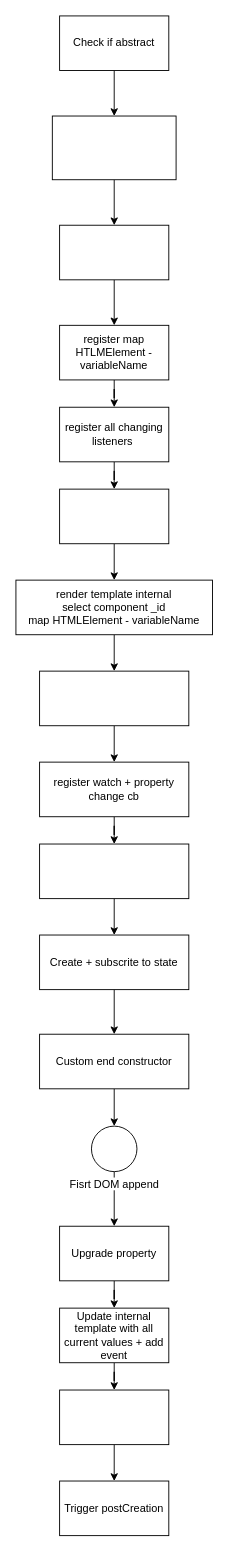
This 228x1552 diagram has some shape labels left out. Here are the shapes that lost their labels. From the top down, the centre of each, then its label:
At point (113, 147): "prepare html template (compile all template inheritance in one) STATIC".
At point (114, 252): "Set max id for each class".
At point (114, 516): "register events to add on dom".
At point (114, 698): "Create empty shadowroot upgrade internal template".
At point (114, 871): "set default value Attribute + property + watch".
At point (114, 1417): "Append content to shadowroot".
